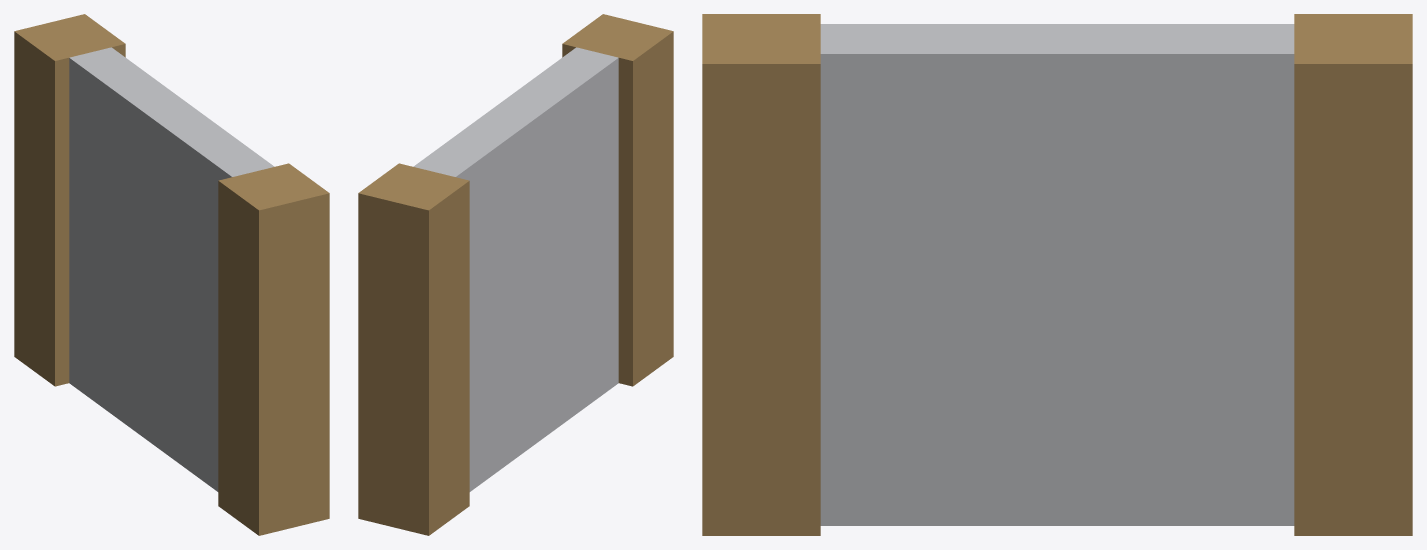
File: Wood_Wall_01.fbx
The picture shows the model from 3 angles, left to right: view 1: azimuth 30°, elevation 25°; view 2: azimuth 150°, elevation 25°; view 3: azimuth 270°, elevation 25°; orthographic projection. The views are drawn at different scales.
Parts seen in each view (by area): view 1: Mesh1_Wood_Wall Model; view 2: Mesh1_Wood_Wall Model; view 3: Mesh1_Wood_Wall Model.
Boxes of the visible parts, x1=… form: Mesh1_Wood_Wall Model: x1=14, y1=14, x2=329, y2=535; Mesh1_Wood_Wall Model: x1=358, y1=14, x2=673, y2=535; Mesh1_Wood_Wall Model: x1=702, y1=14, x2=1412, y2=535.
Bounding box in the file's own units: 0.5 × 2.2 × 3.
